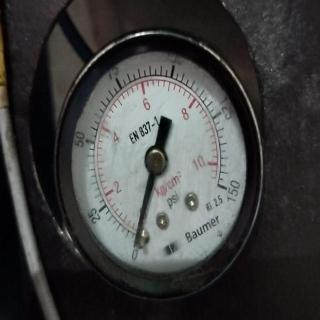gauge: (48, 1, 268, 319), (121, 225, 155, 263), (142, 145, 168, 175), (211, 174, 237, 202), (128, 236, 144, 252)
